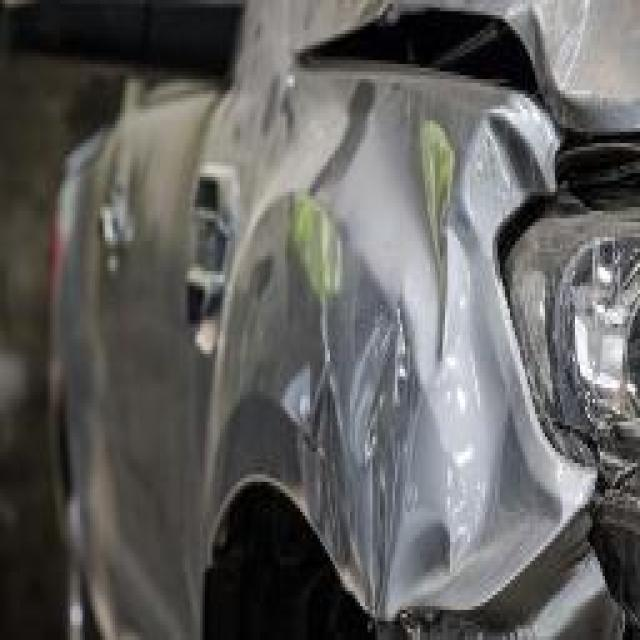Bonnet: (297, 0, 640, 131)
Fender: (216, 57, 630, 640)
